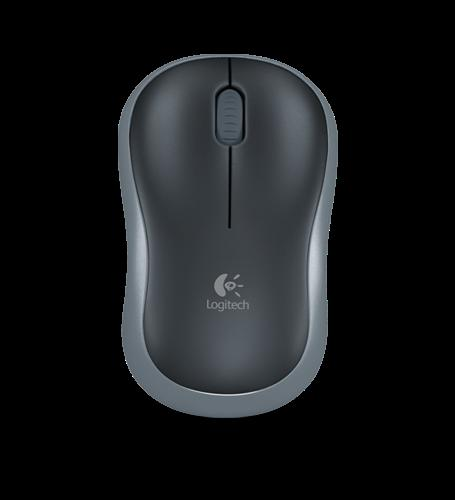computer mouse: (117, 53, 339, 421)
